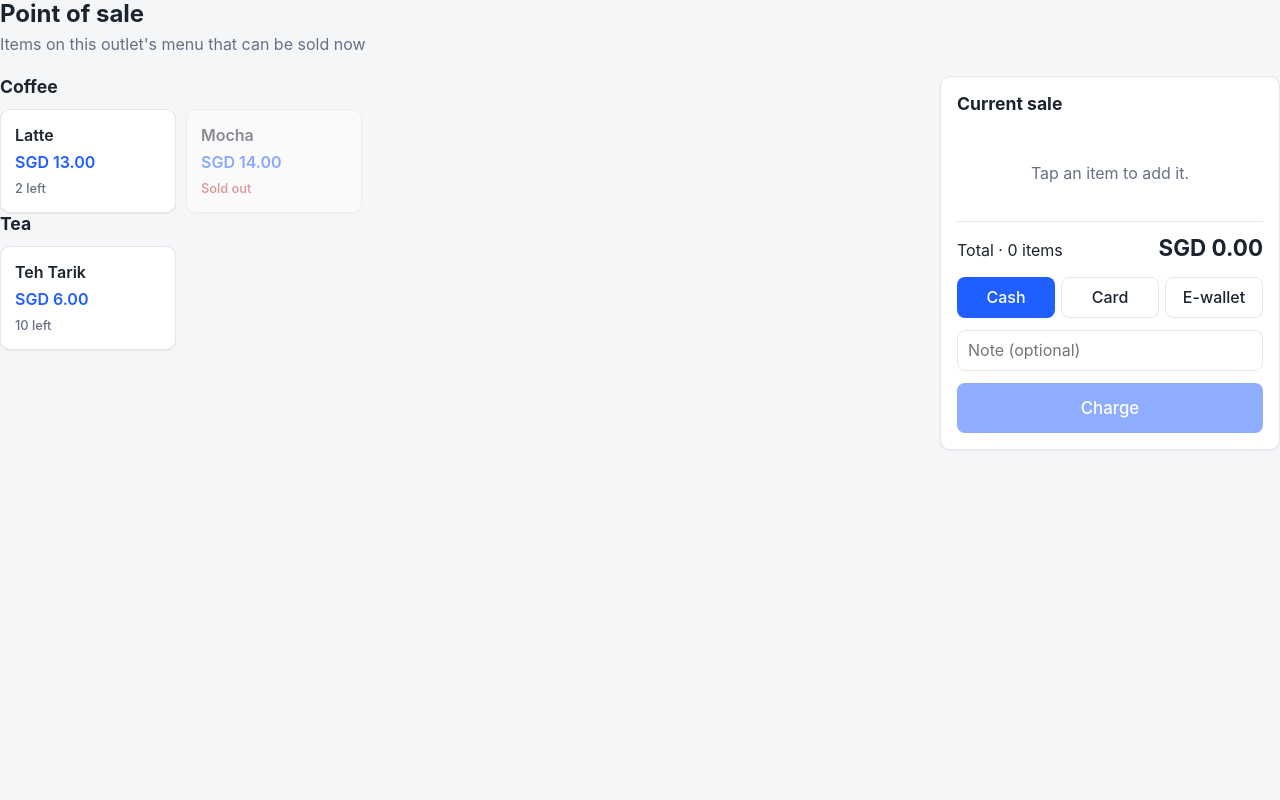
Test: PosPage › retries a failed charge with the same key, and uses a new key once the cart changes
Later steps or results of the test are not shown.
Expected: the text "Latte" is shown, [15,124,54,147]
Click the button "Teh Tarik SGD 6.00 10 left".
click(88, 298)  # box [0,246,176,350]
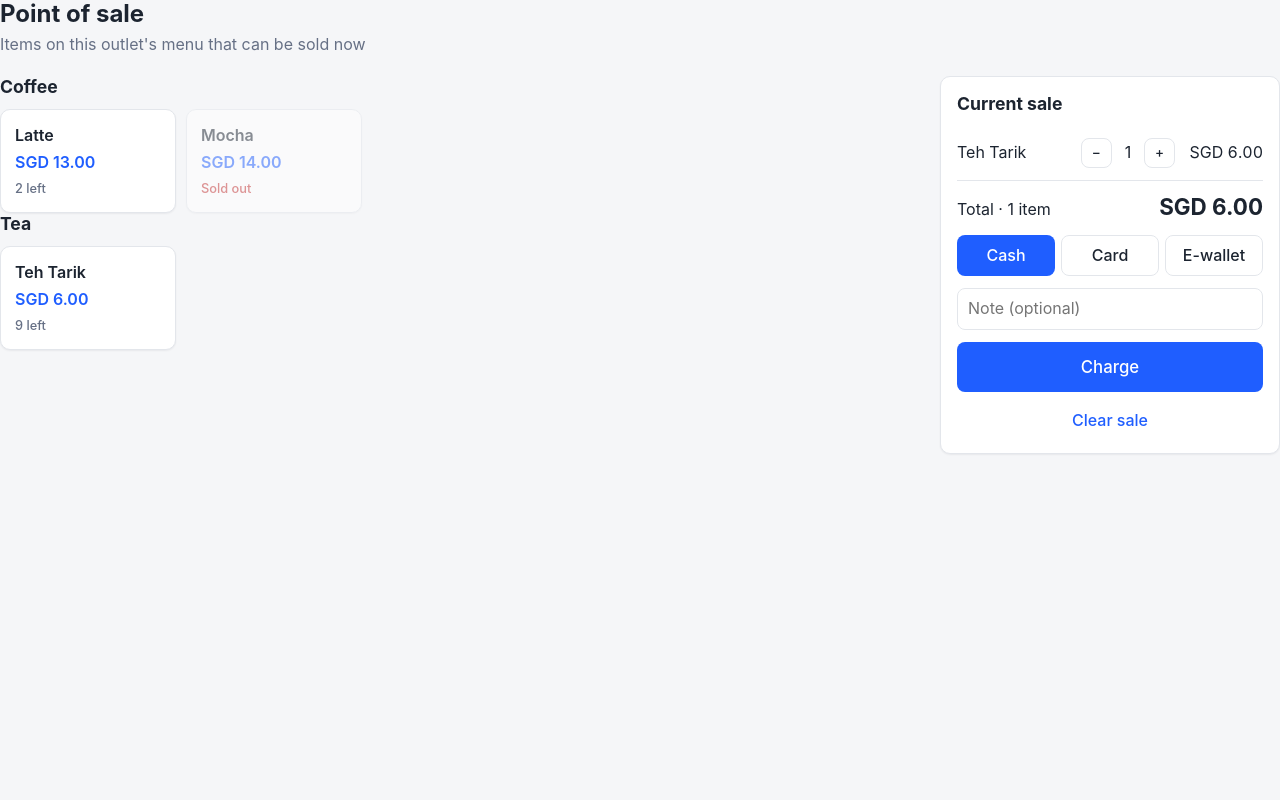
Click the button "Charge".
click(1110, 367)  # box [957,342,1263,392]
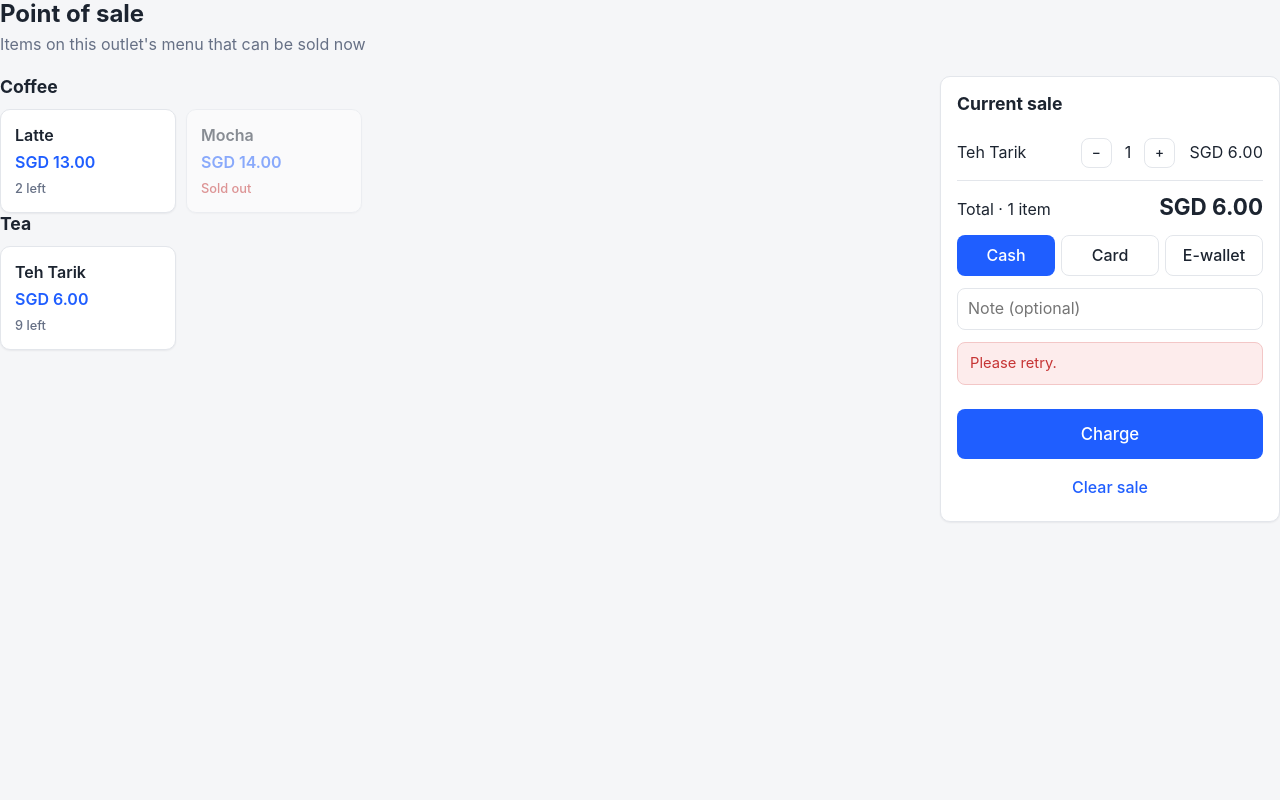
Expected: the message reads "Please retry.", [970,354,1057,372]
Click the button "Charge".
click(1110, 434)  # box [957,409,1263,459]
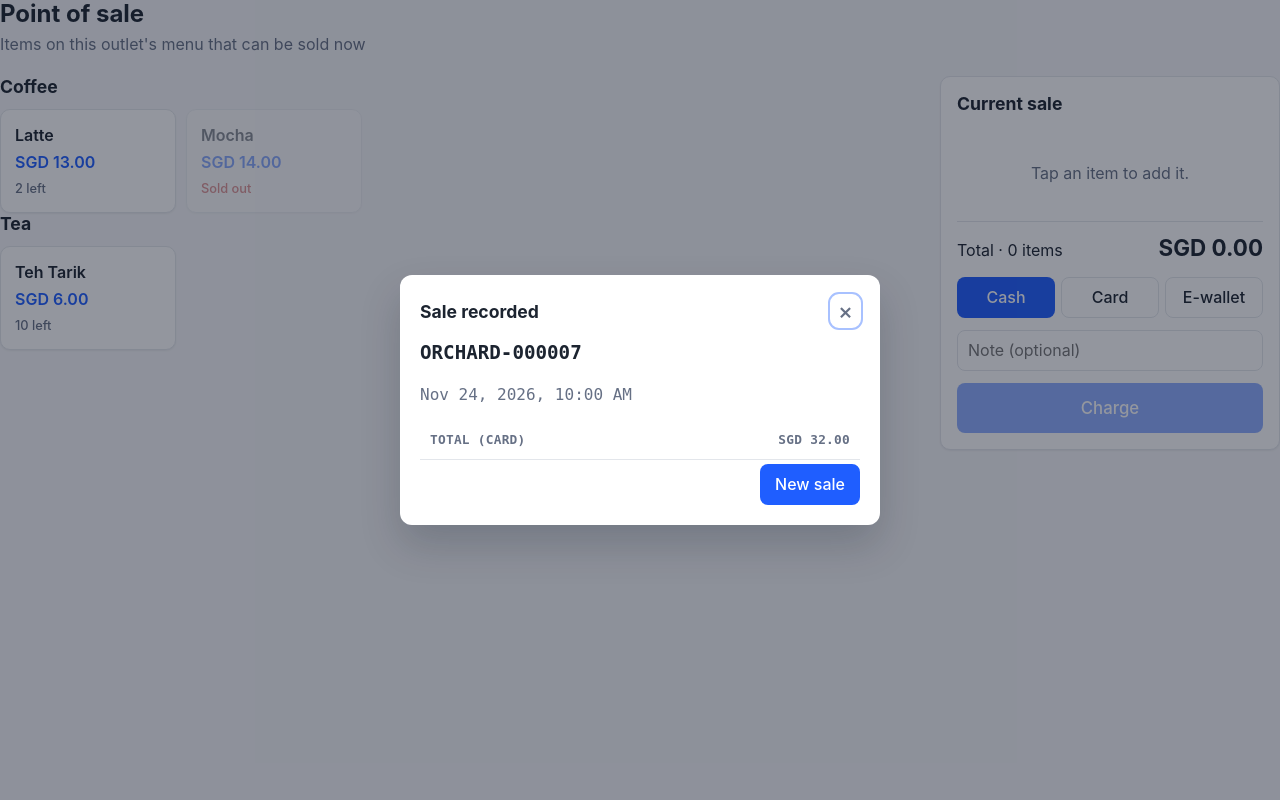
Expected: the text "ORCHARD-000007" is shown, [420,341,582,364]
